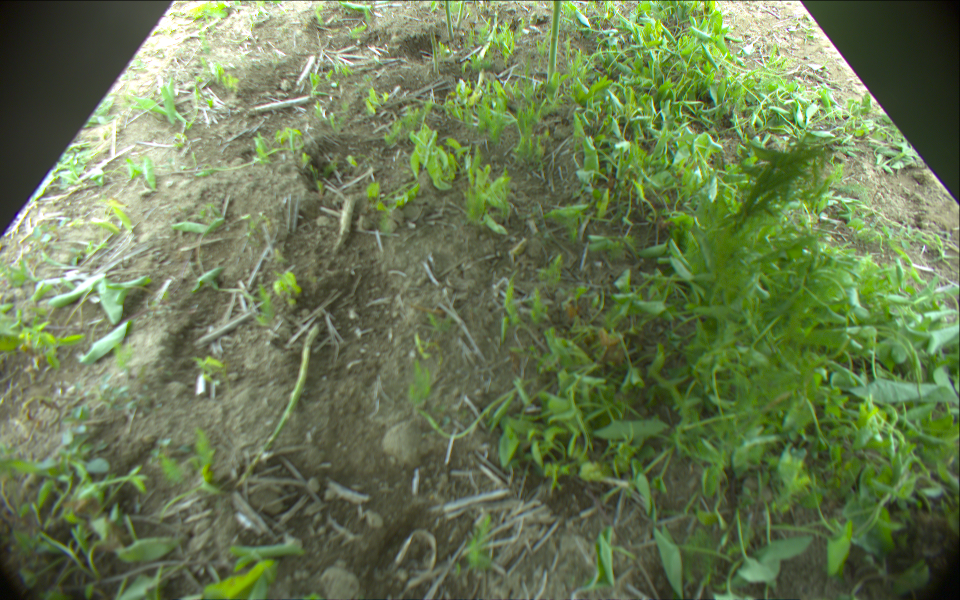aspa: (233, 322, 321, 485), (479, 1, 500, 63), (546, 1, 561, 84), (444, 1, 454, 39), (456, 1, 464, 30)
